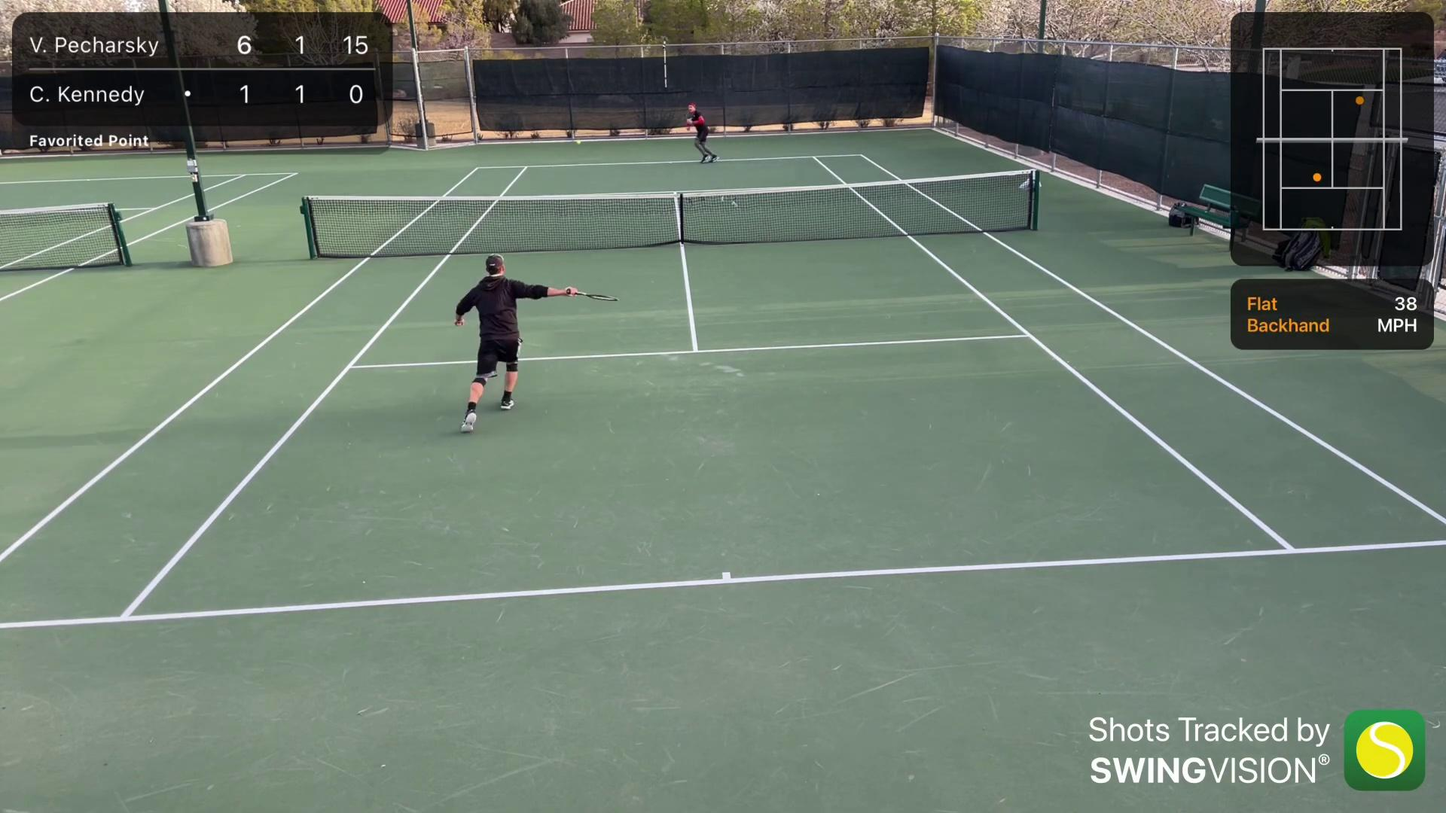ball: (575, 139, 581, 145)
